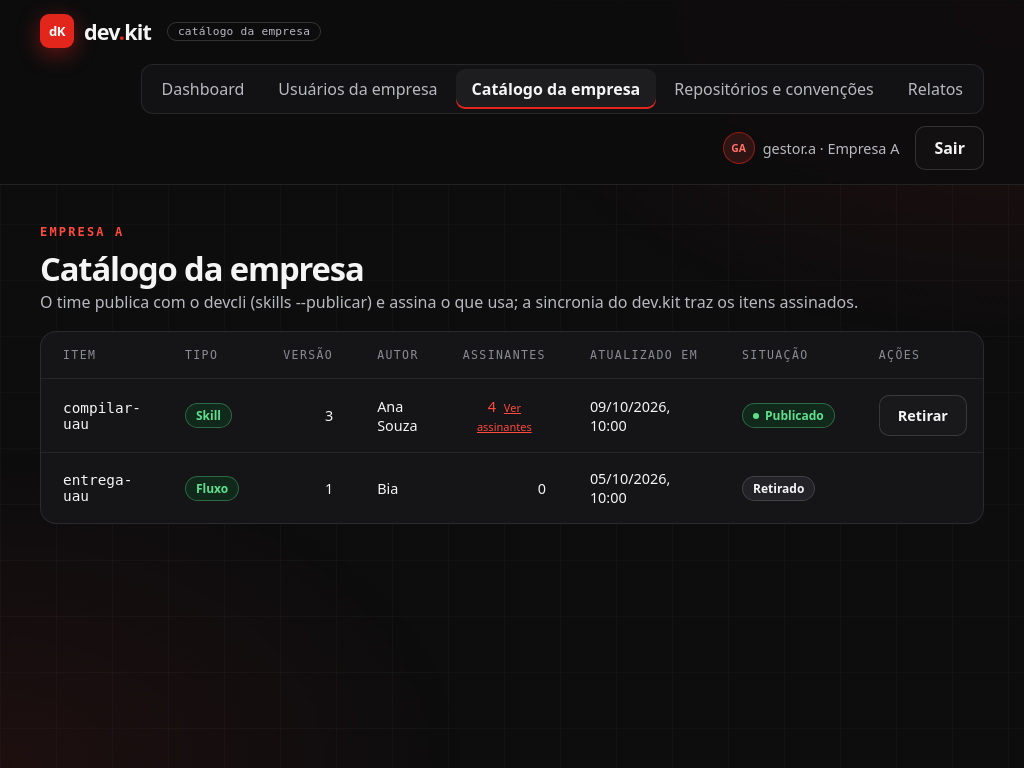
Test: Assinantes da skill (US #753) › pagina sem manter os usuários da página anterior
Click the button with aria-label "Ver assinantes de compilar-uau" at (504, 416), box [463,397,546,435]
(page scrolled)
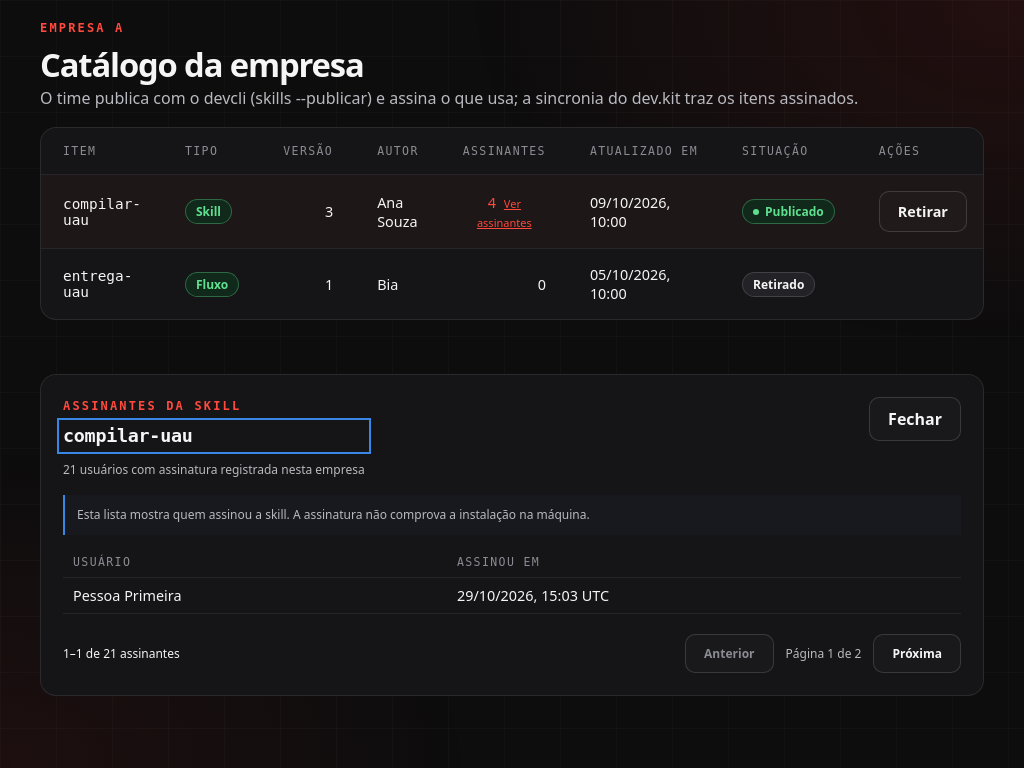
Expected: the text "Pessoa Primeira" is shown, [63,577,447,613]
Expected: the button "Anterior" is disabled, [685,634,774,673]
Click the button "Próxima" at (917, 653), box [873,634,961,673]
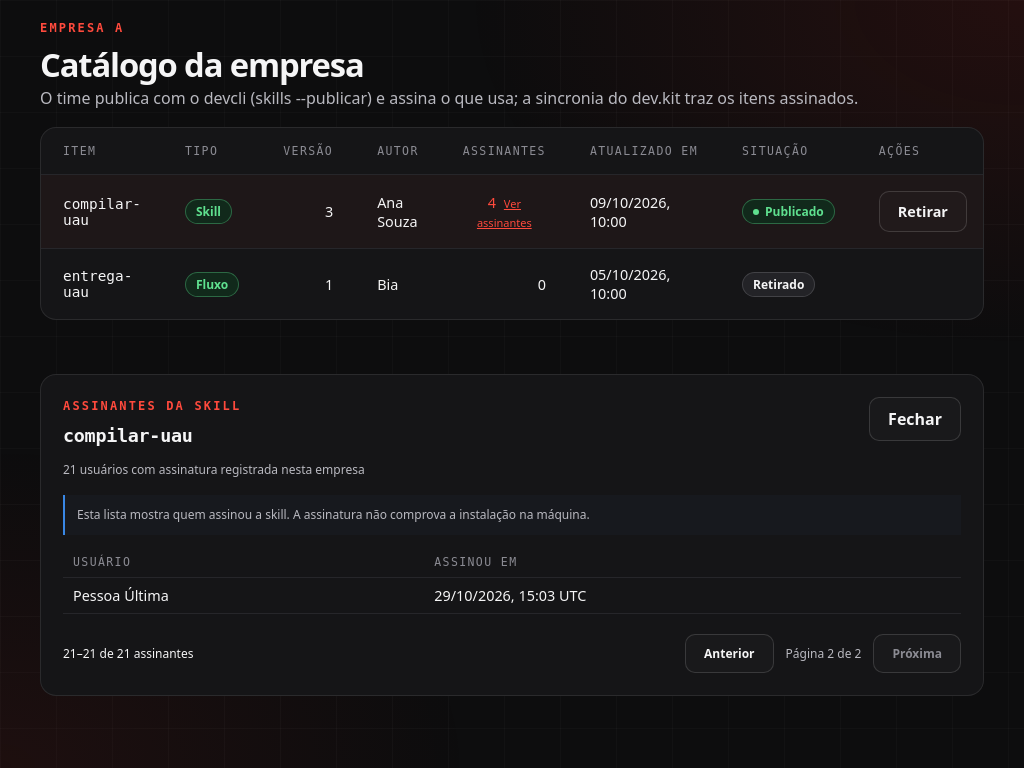
Expected: the text "Pessoa Última" is shown, [63,577,424,613]
Expected: the text "Pessoa Primeira" is gone
Expected: the button "Próxima" is disabled, [873,634,961,673]
